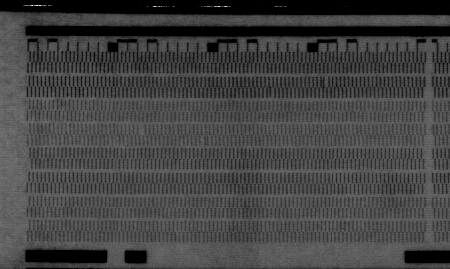Broken hole: (135, 123, 147, 136)
Oblique printing: (318, 75, 331, 91), (264, 87, 278, 100), (198, 135, 211, 147)
